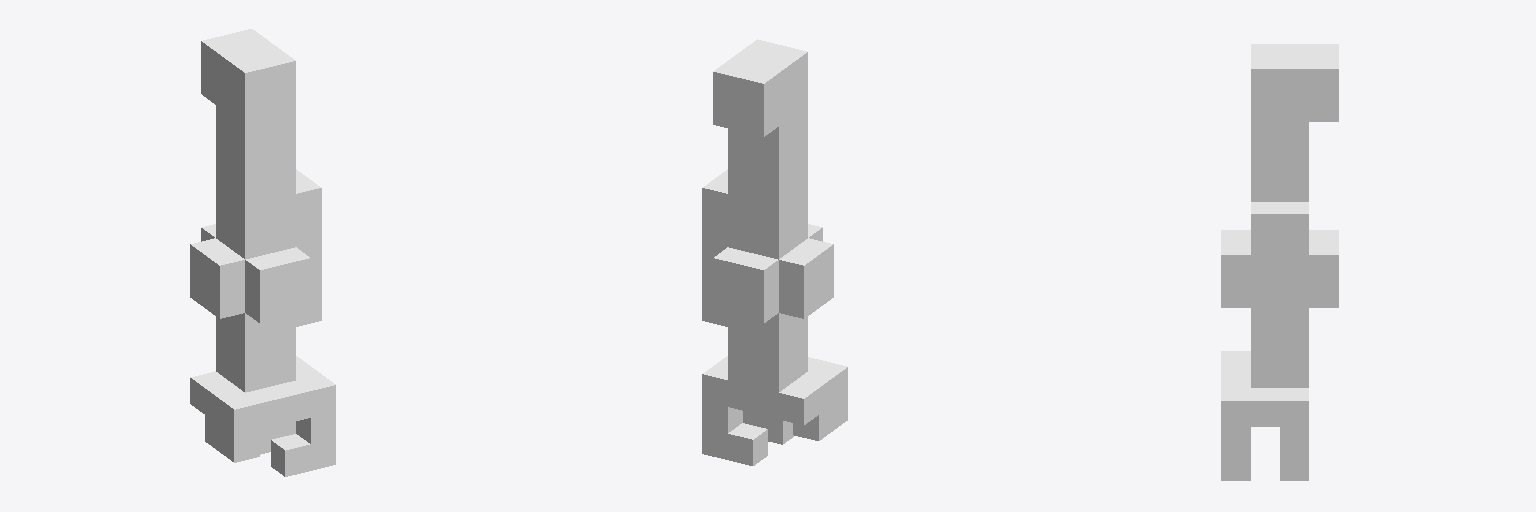
File: EnemySkeleton2-6.obj
3 renders of one model, left to right at view 1: azimuth 30°, elevation 25°; view 2: azimuth 150°, elevation 25°; view 3: azimuth 270°, elevation 25°, orthographic.
Parts seen in each view (by area): view 1: object 1; view 2: object 1; view 3: object 1.
Part boxes in pixels (left/top/right/bottom): object 1: left=190, top=29, right=335, bottom=476; object 1: left=702, top=39, right=847, bottom=465; object 1: left=1221, top=44, right=1338, bottom=480.
Bounding box in the file's own units: 0.4 × 1.5 × 0.4.